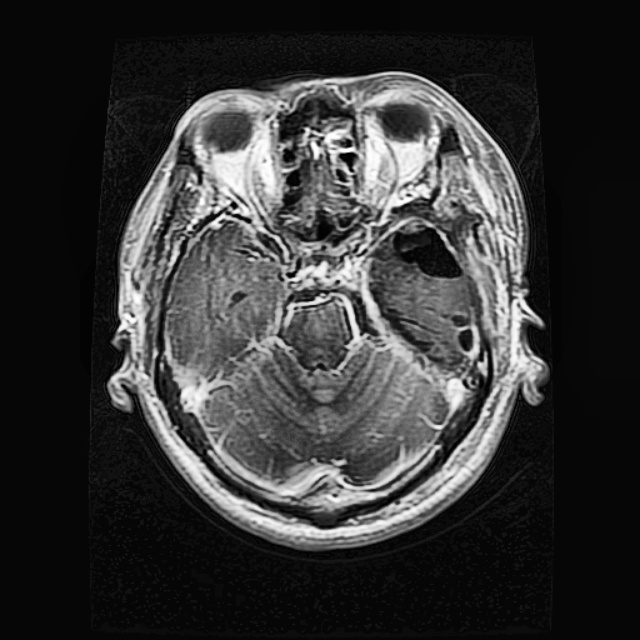Glioma: (372, 219, 485, 374)
